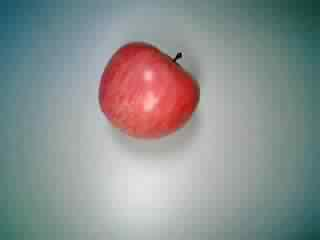apple: (95, 37, 199, 141)
